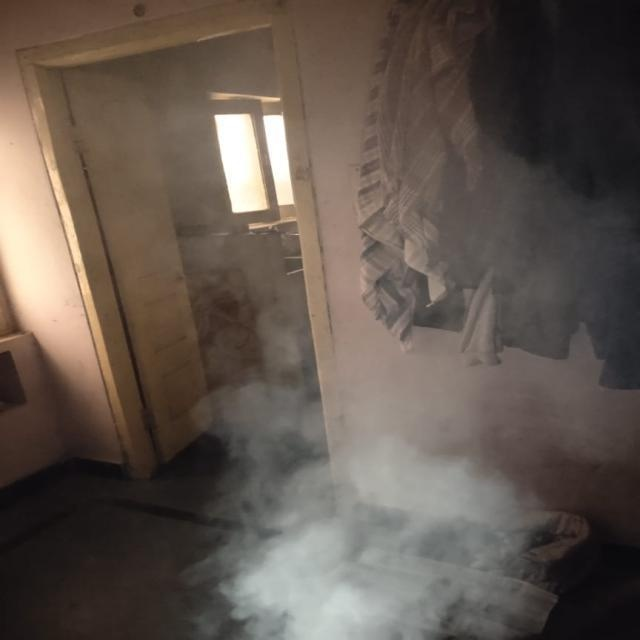smoke: (253, 402, 510, 640)
